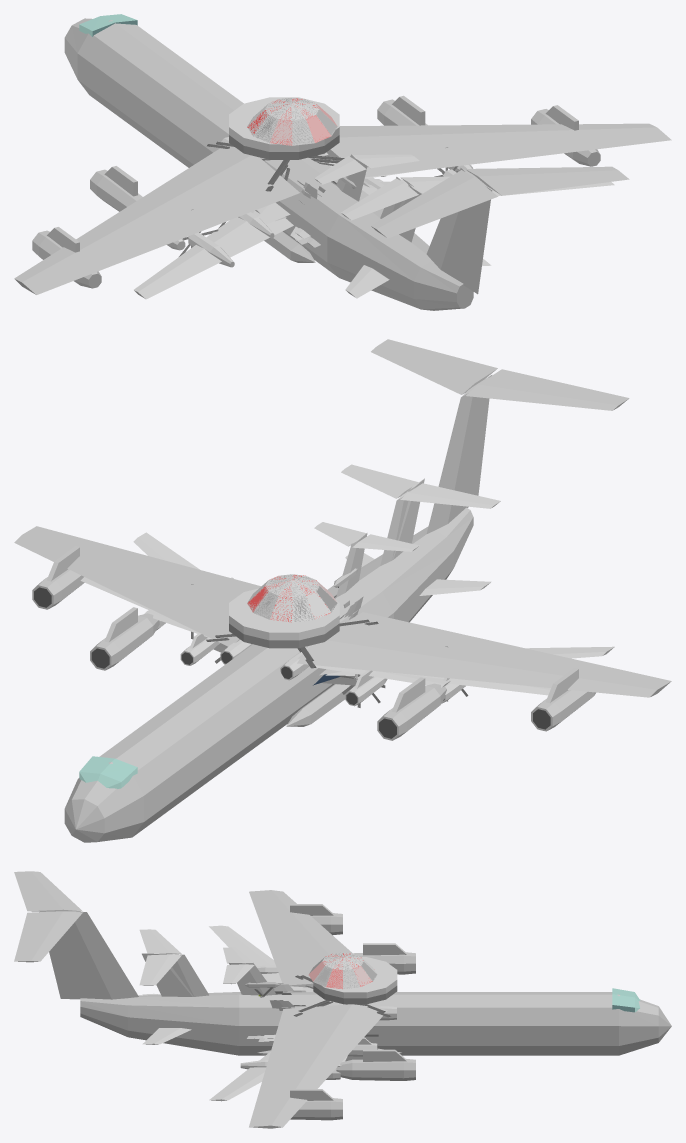
File: aircraft.glb
The picture shows the model from 3 angles, top to bottom: view 1: azimuth 30°, elevation 25°; view 2: azimuth 150°, elevation 25°; view 3: azimuth 270°, elevation 25°; orthographic projection. The views are drawn at different scales.
Visible parts, largest first — view 1: aircraft_030_lod0, aircraft_014_lod0, aircraft_011_lod0, aircraft_009_lod0_part1, aircraft_009_lod0, aircraft_006_lod0, aircraft_000_lod0; view 2: aircraft_030_lod0, aircraft_009_lod0, aircraft_006_lod0, aircraft_009_lod0_part1, aircraft_014_lod0, aircraft_011_lod0; view 3: aircraft_030_lod0, aircraft_014_lod0, aircraft_009_lod0, aircraft_009_lod0_part1, aircraft_011_lod0, aircraft_006_lod0.
Part boxes in pixels (x1,y1,x2,y2): aircraft_030_lod0: (14,14,671,310); aircraft_014_lod0: (134,147,614,299); aircraft_011_lod0: (247,97,337,145); aircraft_009_lod0_part1: (229,97,339,159); aircraft_009_lod0: (167,159,473,250); aircraft_006_lod0: (220,137,419,201); aircraft_000_lod0: (253,182,377,238); aircraft_030_lod0: (14,339,671,842); aircraft_009_lod0: (80,464,550,706); aircraft_006_lod0: (144,522,450,687); aircraft_009_lod0_part1: (229,588,339,648); aircraft_014_lod0: (133,478,614,707); aircraft_011_lod0: (247,574,337,622); aircraft_030_lod0: (14,871,671,1128); aircraft_014_lod0: (142,925,302,1101); aircraft_009_lod0: (139,929,377,1079); aircraft_009_lod0_part1: (313,957,397,1004); aircraft_011_lod0: (308,952,377,989); aircraft_006_lod0: (223,947,396,1066).
Size of what is drawn, in the model's own units: 1112 by 313 by 1313.
